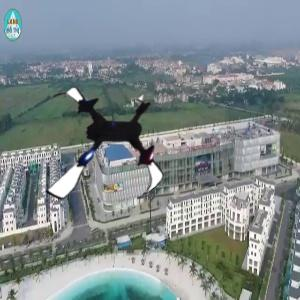drone: (31, 75, 176, 220)
